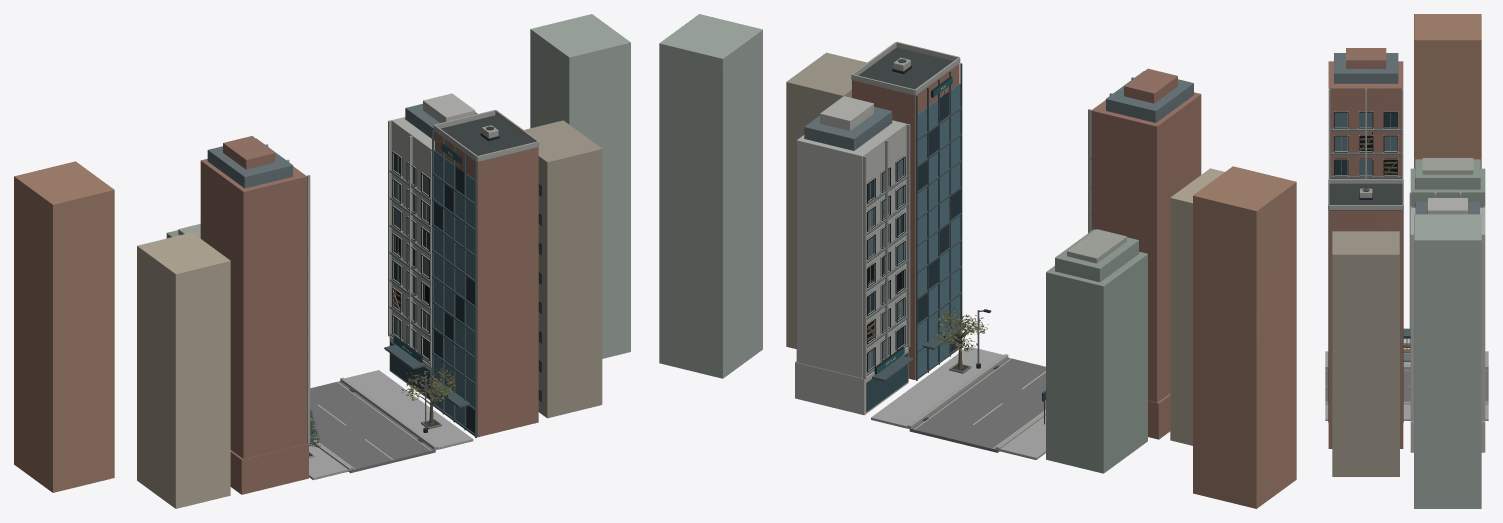
File: city_hd_06.glb
3 renders of one model, left to right at view 1: azimuth 30°, elevation 25°; view 2: azimuth 150°, elevation 25°; view 3: azimuth 270°, elevation 25°, orthographic. The views are drawn at different scales.
Parts seen in each view (by area): view 1: CITY_realwall_9a7567, Background city building.001, Background city building, Background city building.002, Background city building.003, CITY_ac_paint, CITY_PBR_asphalt, CITY_realwall_b8b9b4, CITY_trim, CITY_office_frame, CITY_PBR_pavement, CITY_modern_panel (+8 smaller); view 2: Background city building.003, Background city building.001, CITY_realwall_b8b9b4, CITY_realwall_9a7567, CITY_sign_red, CITY_ac_paint, CITY_PBR_asphalt, CITY_trim, Background city building, Background city building.002, CITY_office_frame, CITY_modern_panel (+9 smaller); view 3: Background city building.003, Background city building.002, Background city building.001, CITY_realwall_9a7567, CITY_realwall_b8b9b4, CITY_trim, CITY_sign_red, CITY_modern_panel, Flat roof membrane, CITY_glass, CITY_recess, CITY_PBR_asphalt (+6 smaller).
Part boxes in pixels (x1=…): CITY_realwall_9a7567: x1=200, y1=131, x2=538, y2=494; Background city building.001: x1=14, y1=161, x2=114, y2=492; Background city building: x1=137, y1=232, x2=230, y2=508; Background city building.002: x1=524, y1=120, x2=602, y2=418; Background city building.003: x1=530, y1=14, x2=630, y2=358; CITY_ac_paint: x1=434, y1=150, x2=474, y2=425; CITY_PBR_asphalt: x1=310, y1=381, x2=435, y2=473; CITY_realwall_b8b9b4: x1=389, y1=93, x2=475, y2=400; CITY_trim: x1=178, y1=110, x2=539, y2=443; CITY_office_frame: x1=310, y1=130, x2=476, y2=440; CITY_PBR_pavement: x1=309, y1=370, x2=473, y2=480; CITY_modern_panel: x1=207, y1=103, x2=477, y2=441; Background city building.003: x1=659, y1=14, x2=762, y2=378; Background city building.001: x1=1193, y1=166, x2=1296, y2=508; CITY_realwall_b8b9b4: x1=795, y1=96, x2=908, y2=415; CITY_realwall_9a7567: x1=852, y1=64, x2=1201, y2=439; CITY_sign_red: x1=1046, y1=229, x2=1147, y2=473; CITY_ac_paint: x1=917, y1=83, x2=960, y2=376; CITY_PBR_asphalt: x1=909, y1=357, x2=1045, y2=452; CITY_trim: x1=851, y1=41, x2=1134, y2=379; Background city building: x1=1170, y1=168, x2=1224, y2=445; Background city building.002: x1=786, y1=52, x2=866, y2=348; CITY_office_frame: x1=872, y1=63, x2=964, y2=381; CITY_modern_panel: x1=804, y1=71, x2=1193, y2=375; Background city building.003: x1=1414, y1=214, x2=1481, y2=508; Background city building.002: x1=1332, y1=231, x2=1399, y2=476; Background city building.001: x1=1414, y1=14, x2=1481, y2=168; CITY_realwall_9a7567: x1=1328, y1=48, x2=1403, y2=448; CITY_realwall_b8b9b4: x1=1410, y1=198, x2=1485, y2=452; CITY_trim: x1=1328, y1=88, x2=1485, y2=348; CITY_sign_red: x1=1410, y1=159, x2=1485, y2=207; CITY_modern_panel: x1=1330, y1=53, x2=1479, y2=214; Flat roof membrane: x1=1329, y1=183, x2=1402, y2=210; CITY_glass: x1=1334, y1=112, x2=1397, y2=174; CITY_recess: x1=1334, y1=111, x2=1397, y2=176; CITY_PBR_asphalt: x1=1325, y1=369, x2=1488, y2=401.
Bounding box in the file's own units: 56.65 × 30.64 × 16.
